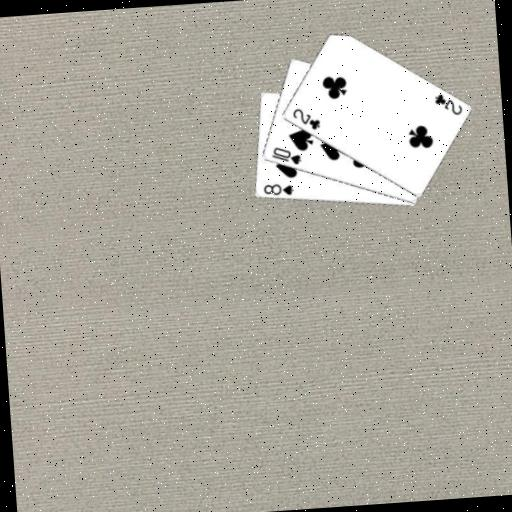10S: (268, 142, 304, 168)
2C: (289, 104, 322, 133), (431, 90, 464, 119)
8S: (261, 180, 296, 199)
